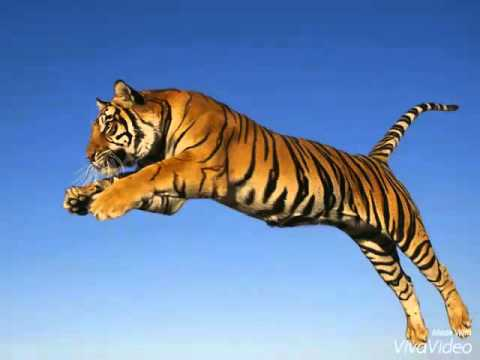tiger: (61, 71, 479, 347)
